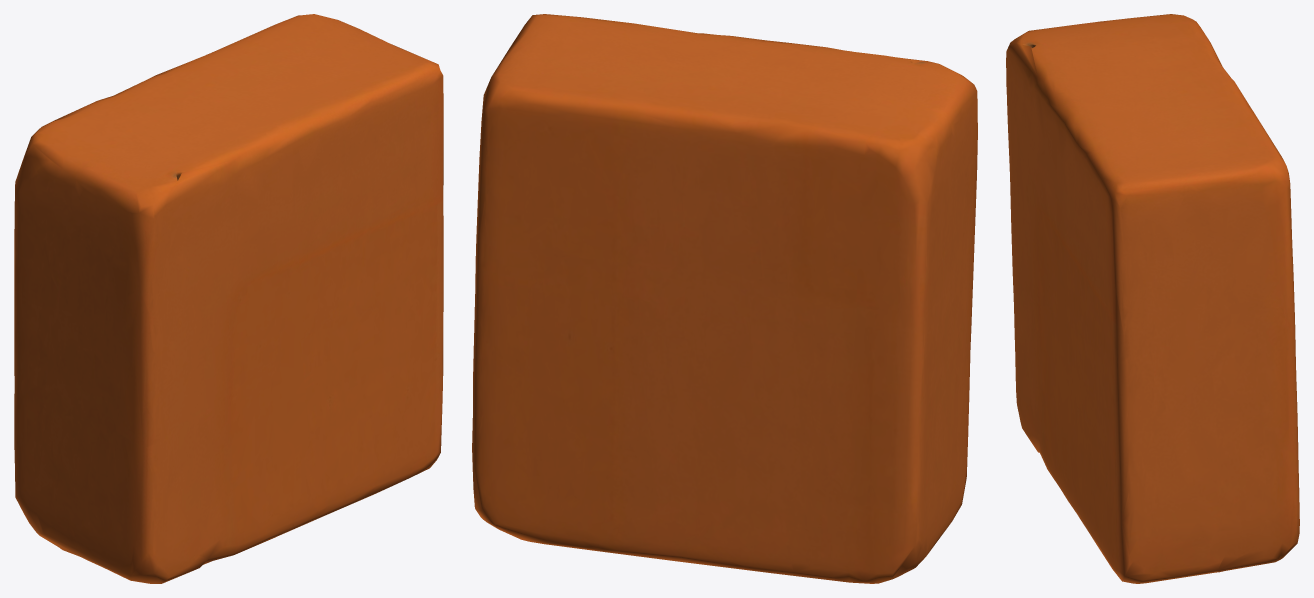
File: block2_teal.glb
3 views of the same model, side by side, from view 1: azimuth 30°, elevation 25°; view 2: azimuth 150°, elevation 25°; view 3: azimuth 270°, elevation 25° (orthographic). The views are drawn at different scales.
Parts seen in each view (by area): view 1: tripo_part_2; view 2: tripo_part_2; view 3: tripo_part_2.
Part boxes in pixels (bbox=[...]): tripo_part_2: bbox=[14, 14, 443, 583]; tripo_part_2: bbox=[472, 14, 977, 583]; tripo_part_2: bbox=[1006, 14, 1299, 583].
Bounding box in the file's own units: 0.3651 × 0.3627 × 0.2367.
1 material, 1 textured.
